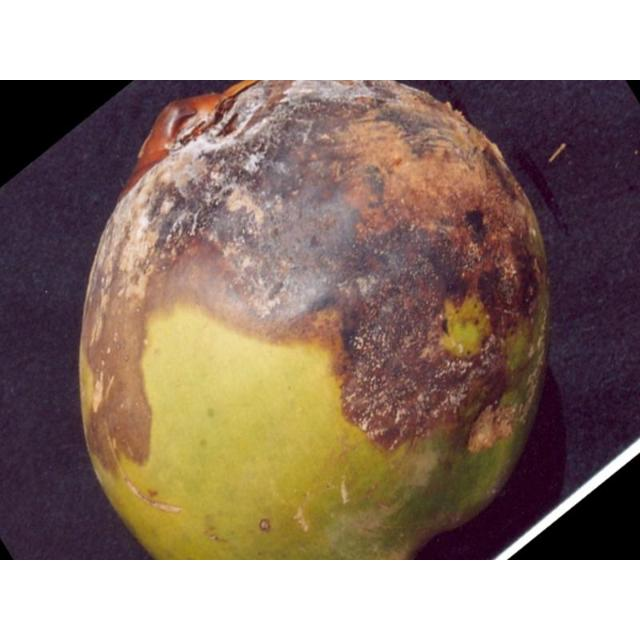damaged: (78, 80, 552, 559)
